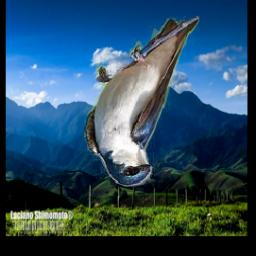Swallow: (84, 17, 199, 188)
